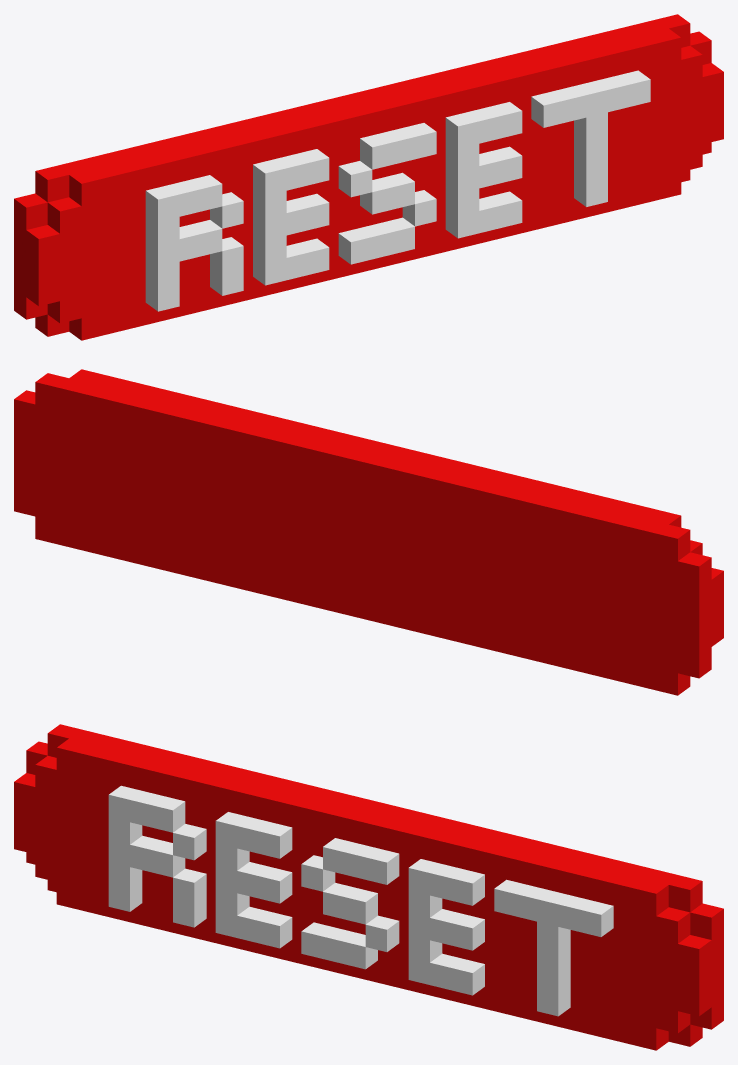
Rendered from reset.obj.
3 renders of one model, top to bottom at view 1: azimuth 30°, elevation 25°; view 2: azimuth 150°, elevation 25°; view 3: azimuth 330°, elevation 25°, orthographic.
Visible parts, largest first — view 1: reset; view 2: reset; view 3: reset.
Part boxes in pixels (x1,y1,x2,y2): reset: [14, 14, 723, 340]; reset: [14, 369, 723, 695]; reset: [14, 724, 723, 1050].
Size of the model in its own units: 32 by 7 by 3.
1 material, 1 textured.
